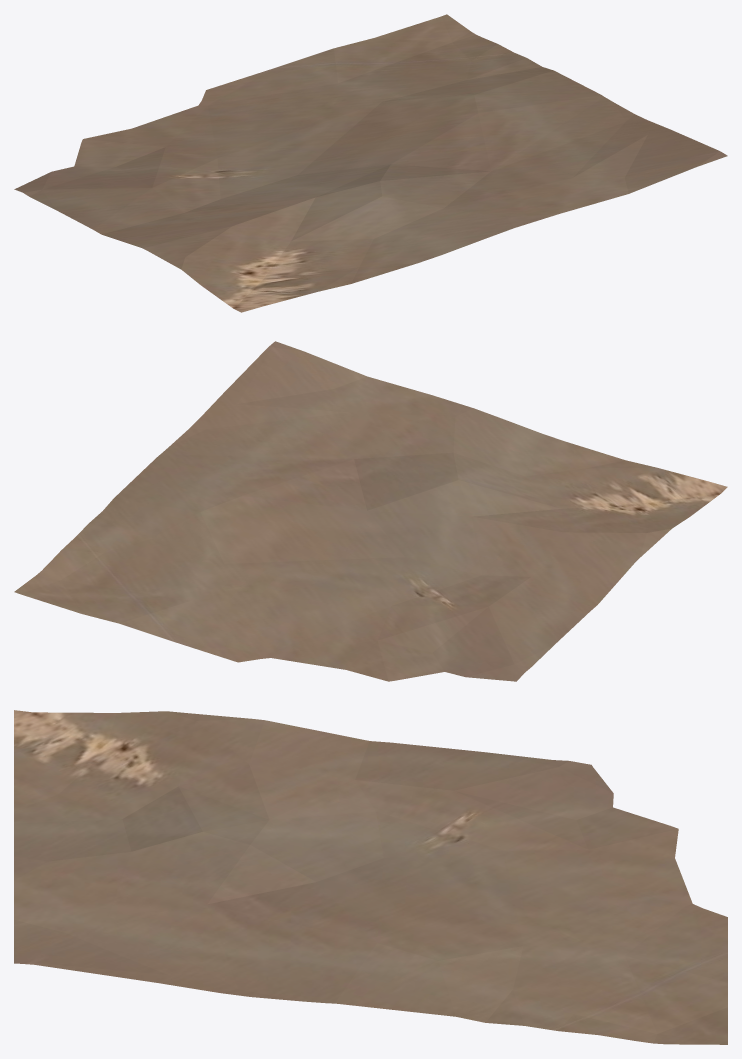
3 views of the same model, one above another, from view 1: azimuth 30°, elevation 25°; view 2: azimuth 150°, elevation 25°; view 3: azimuth 270°, elevation 25° (orthographic). The views are drawn at different scales.
Bounding box in the file's own units: 1.04 × 0.1661 × 1.04.
2 materials, 2 textured.
